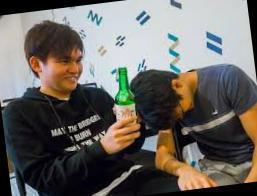Drunk: (46, 41, 84, 92)
